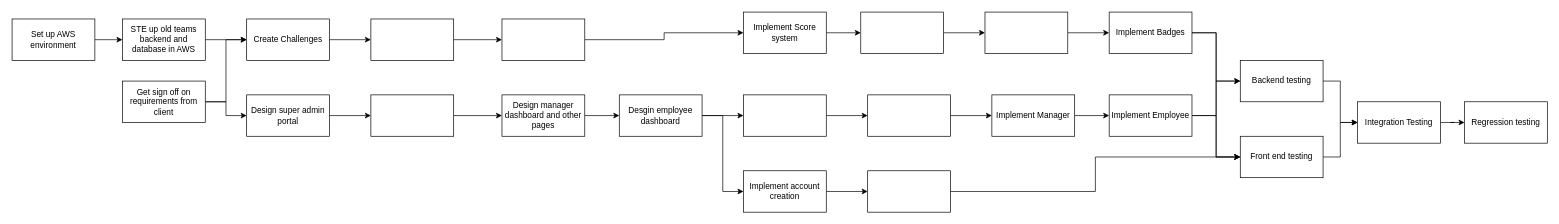
Some shapes in this 1559 by 224 pixel diagram are drawn without their labels. The centre of each missing label's shape, as x and y in pixels:
Create badges: (x=543, y=39)
Create level system: (x=412, y=39)
Design admin dashboard and other pages: (x=412, y=115)
Implement Admin: (x=908, y=115)
Implement Challenges: (x=902, y=32)
Implement Level system: (x=1026, y=32)
Implement login system: (x=908, y=191)
Implement super admin: (x=784, y=115)
